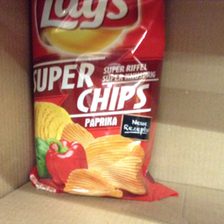chips: (30, 1, 176, 202)
